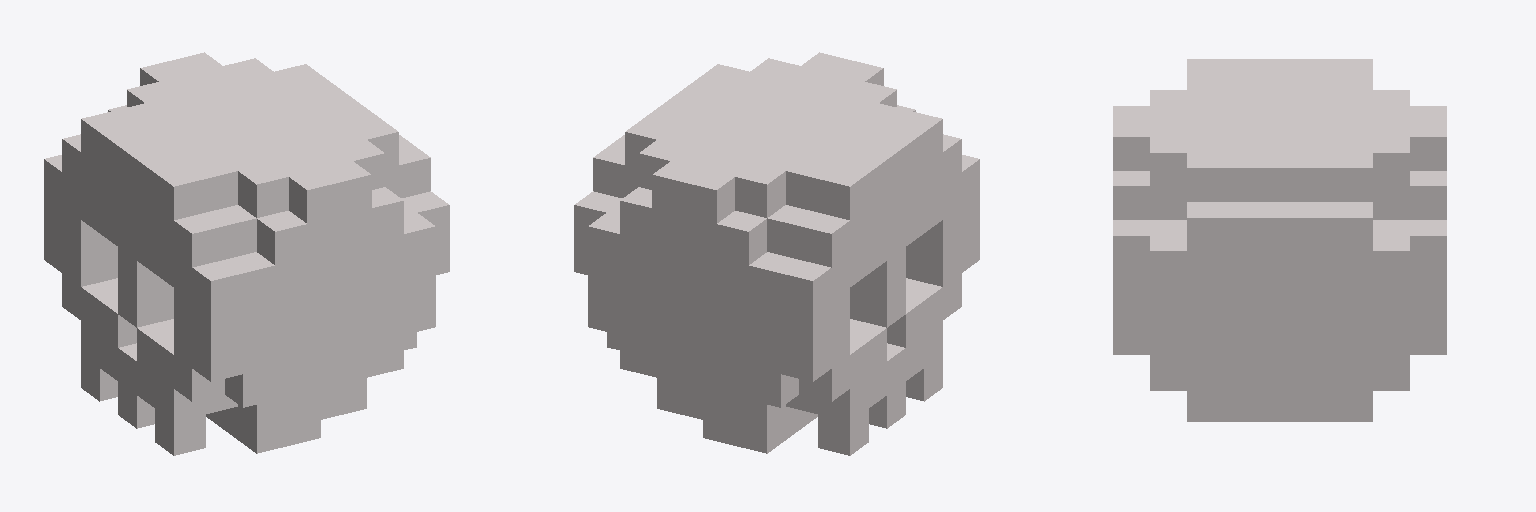
The picture shows the model from 3 angles: view 1: azimuth 30°, elevation 25°; view 2: azimuth 150°, elevation 25°; view 3: azimuth 270°, elevation 25°; orthographic projection.
Visible parts, largest first — view 1: object 1; view 2: object 1; view 3: object 1.
Boxes of the visible parts, box(x1,y1,x2,y2) form: object 1: box(44, 52, 449, 455); object 1: box(574, 52, 979, 455); object 1: box(1113, 59, 1446, 421).
Size of the model in its own units: 0.8 by 0.8 by 0.9.
1 materials, 1 textured.